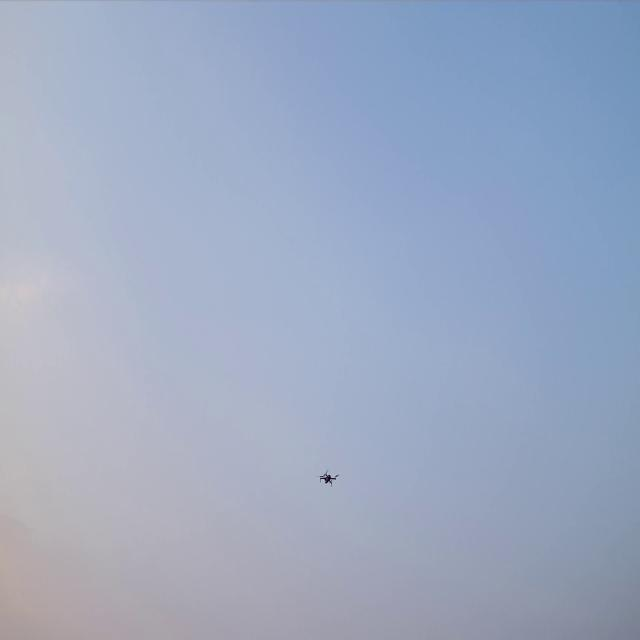UAV: (315, 470, 341, 488)
